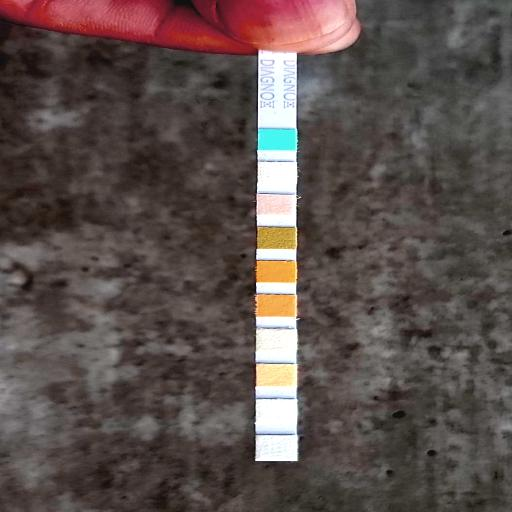Bilirubin: (258, 163, 296, 183)
Blood: (256, 261, 296, 282)
Glucose: (256, 130, 296, 150)
Ketone: (256, 194, 296, 216)
Leukocytes: (256, 436, 297, 458)
Nitrite: (256, 399, 296, 423)
Protein: (257, 329, 296, 352)
SpGravity: (257, 228, 296, 248)
Urobilinogen: (256, 364, 296, 386)
pH: (256, 295, 296, 317)
strip: (255, 56, 298, 461)
